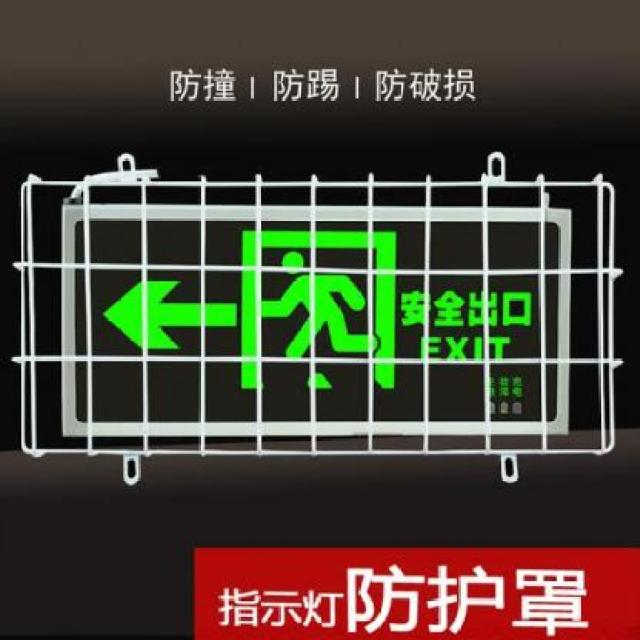exit_sign: (60, 208, 573, 434)
